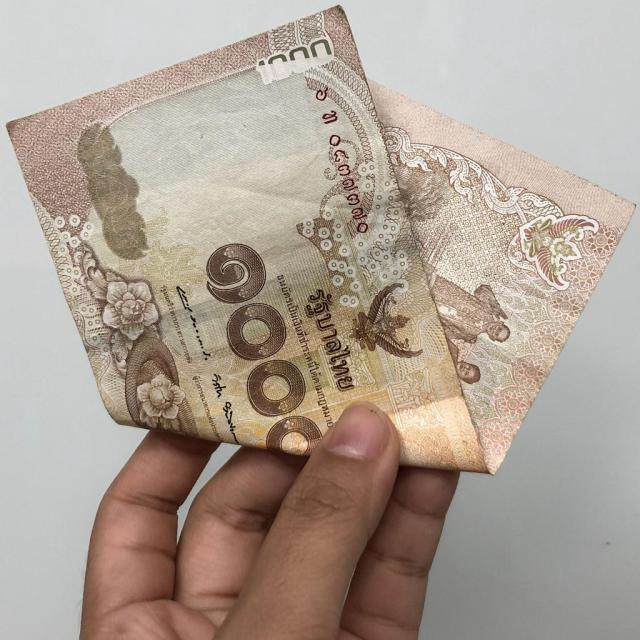THAI1000: (6, 7, 634, 478)
